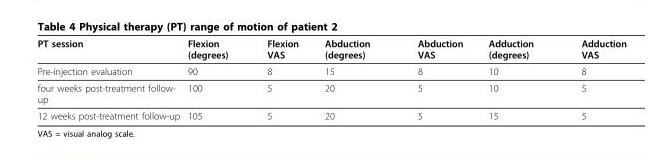table: (36, 37, 625, 121)
table column: (36, 37, 183, 121), (311, 37, 393, 121), (393, 37, 475, 121), (475, 37, 556, 121), (556, 37, 625, 121), (183, 37, 247, 121), (247, 37, 311, 121)
table column header: (36, 37, 625, 62)
table row: (36, 79, 625, 107), (36, 37, 625, 62), (36, 62, 625, 79), (36, 107, 625, 121)
